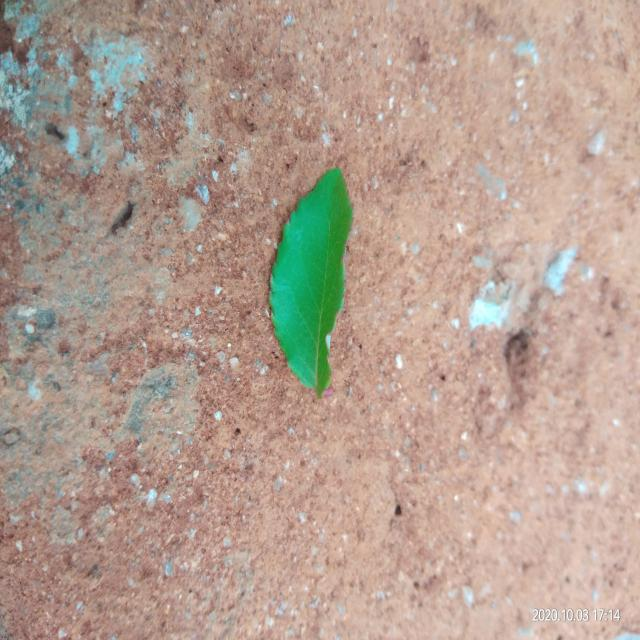rose: (270, 168, 352, 398)
